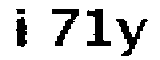1: (83, 8, 112, 51)
7: (44, 6, 82, 51)
i: (9, 3, 36, 56)
y: (116, 13, 145, 60)
